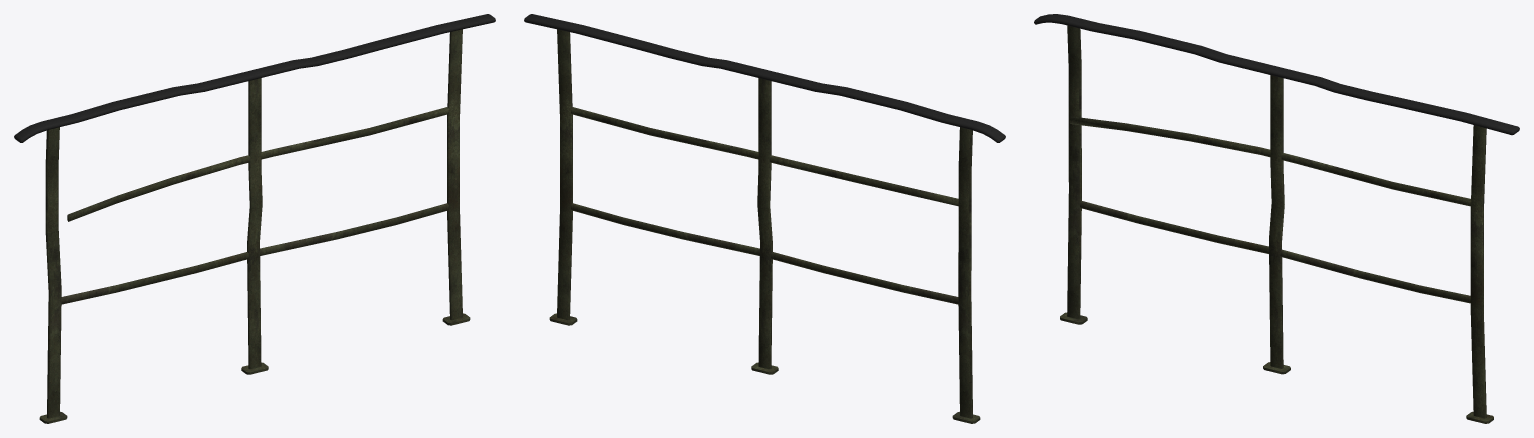
File: hand_rail_3.glb
The picture shows the model from 3 angles, left to right: view 1: azimuth 30°, elevation 25°; view 2: azimuth 150°, elevation 25°; view 3: azimuth 330°, elevation 25°; orthographic projection.
Parts seen in each view (by area): view 1: hand_rail_3; view 2: hand_rail_3; view 3: hand_rail_3.
Part boxes in pixels (x1,y1,x2,y2): hand_rail_3: [14, 14, 495, 423]; hand_rail_3: [524, 14, 1005, 423]; hand_rail_3: [1034, 14, 1519, 423].
Bounding box in the file's own units: 2.13 × 1.28 × 0.1054.
Materials: 2 (2 with a texture image).
